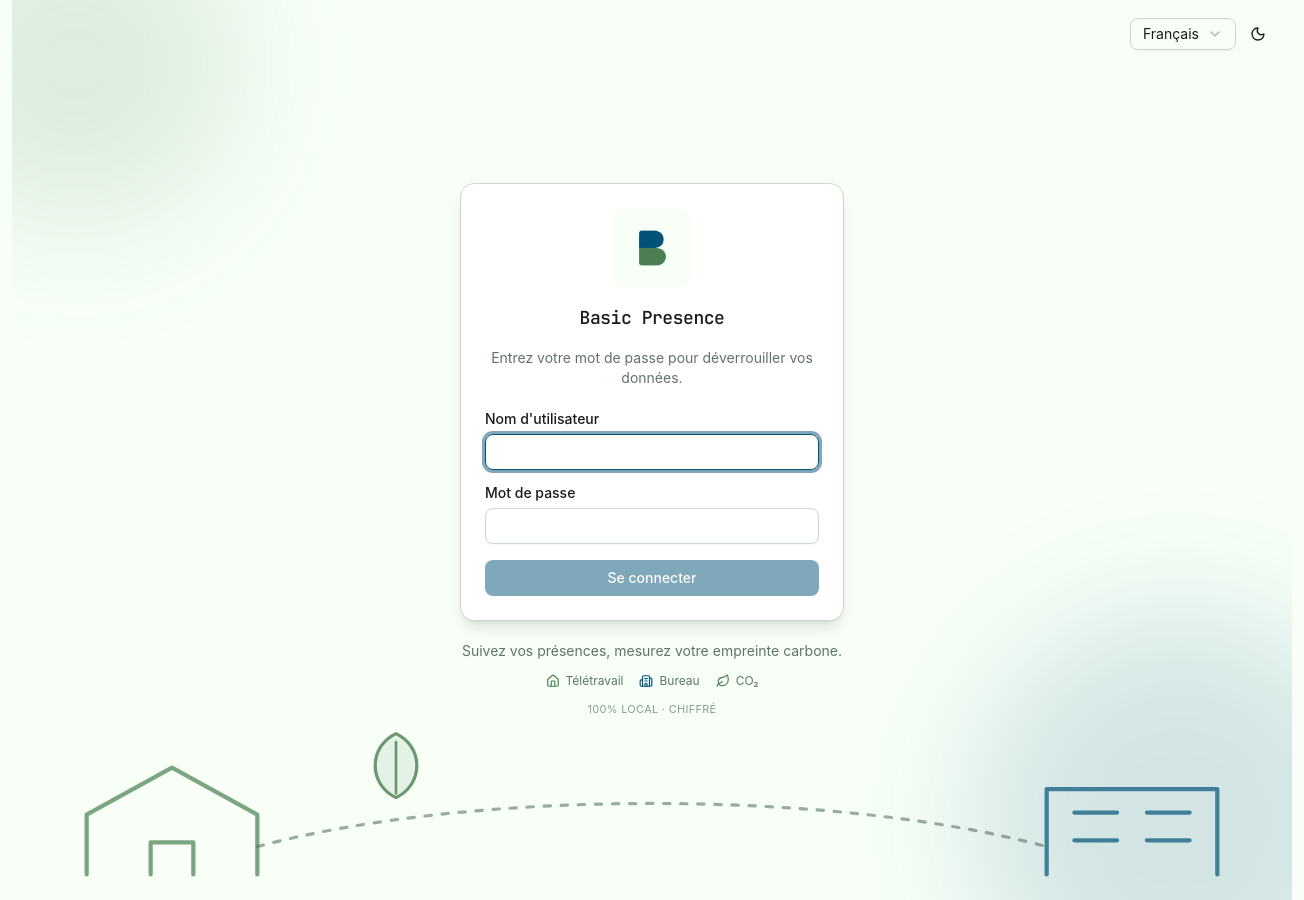
Test: auth flow › logs in an existing account and lands on the empty-profile home
Type "alice" into the field labelled "Nom d'utilisateur" at (652, 452), box [485,434,819,470]
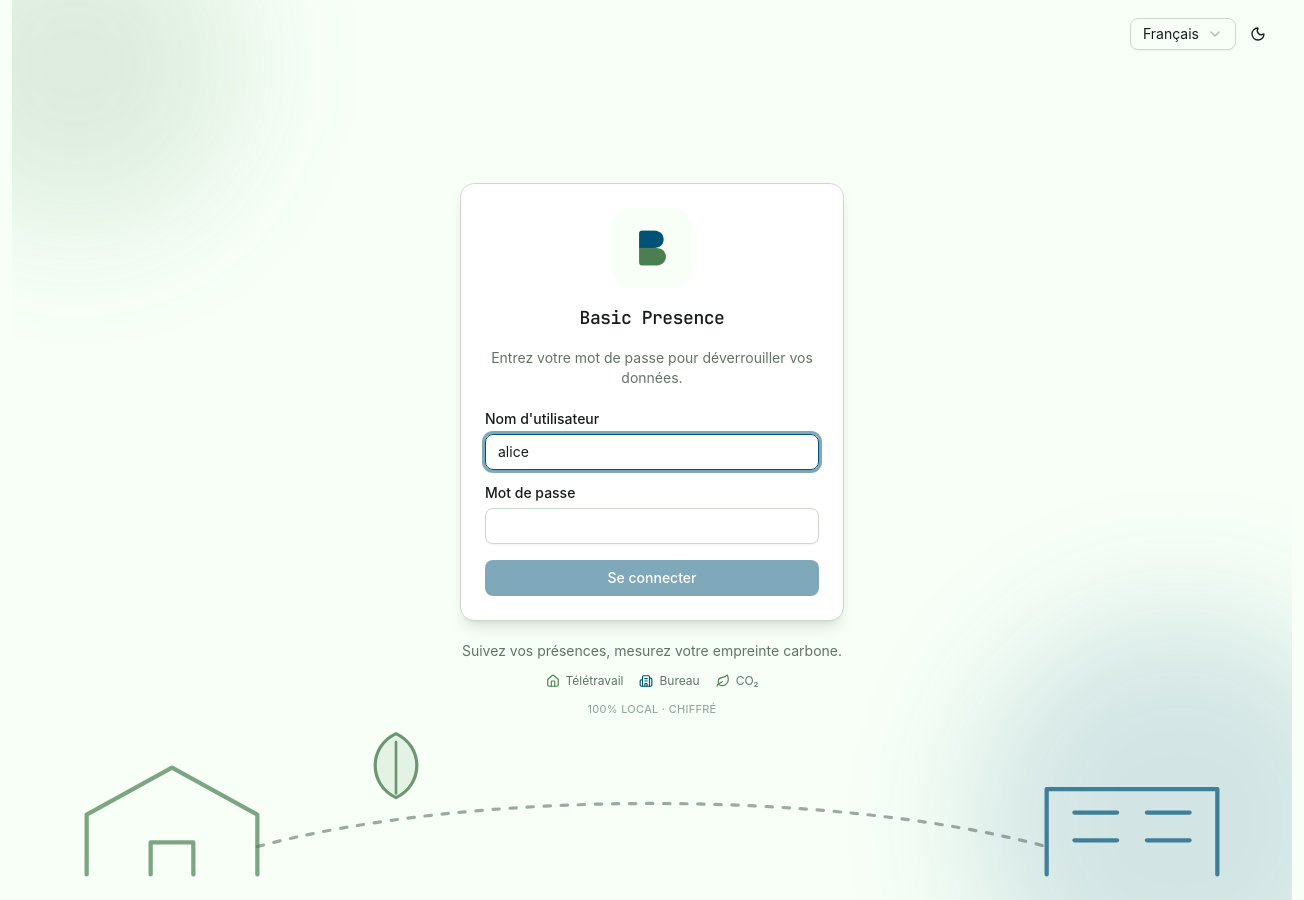
Type "secret123" into the password field labelled "Mot de passe" at (652, 526), box [485,508,819,544]
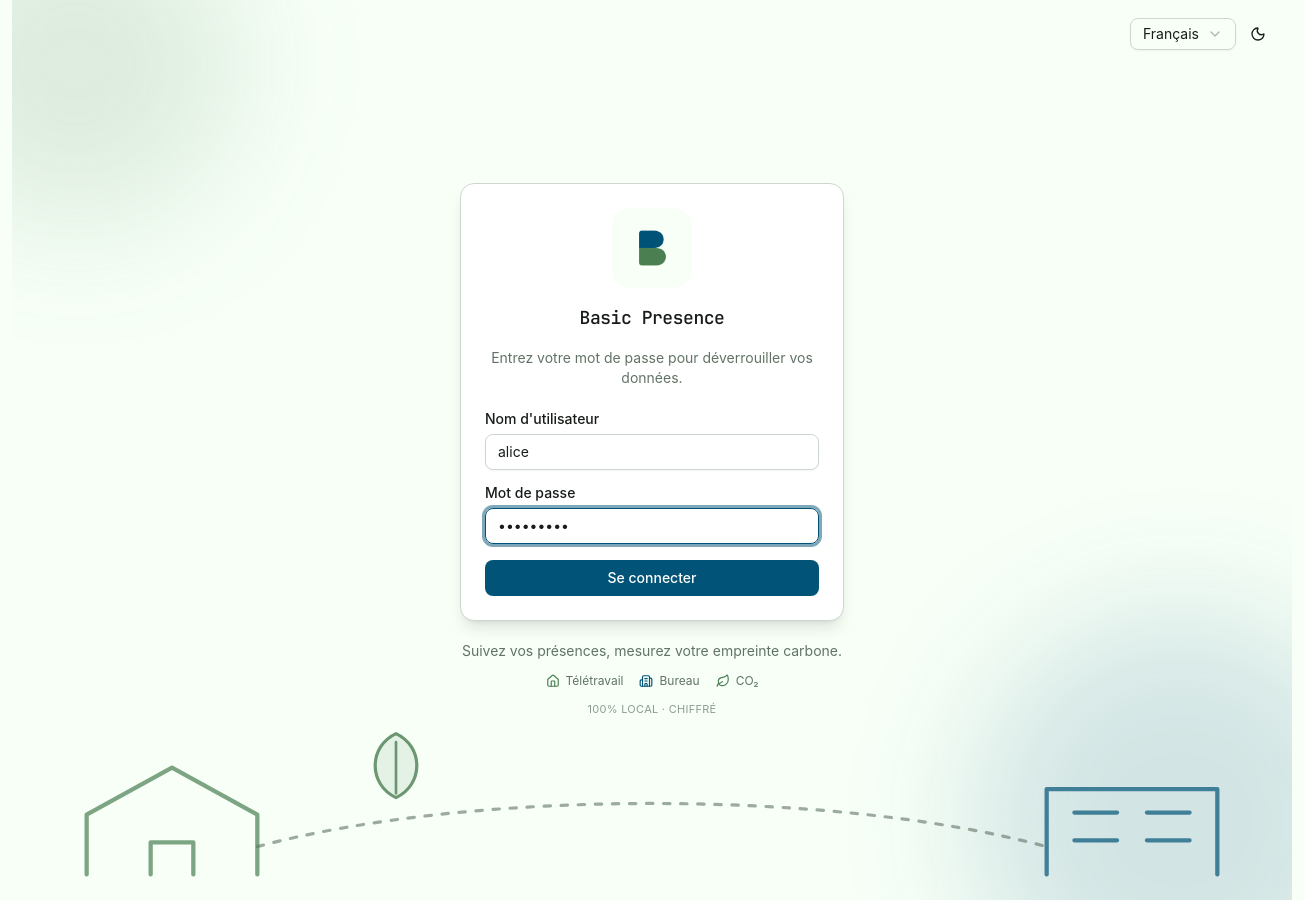
Click the button "Se connecter" at (652, 578), box [485,560,819,596]
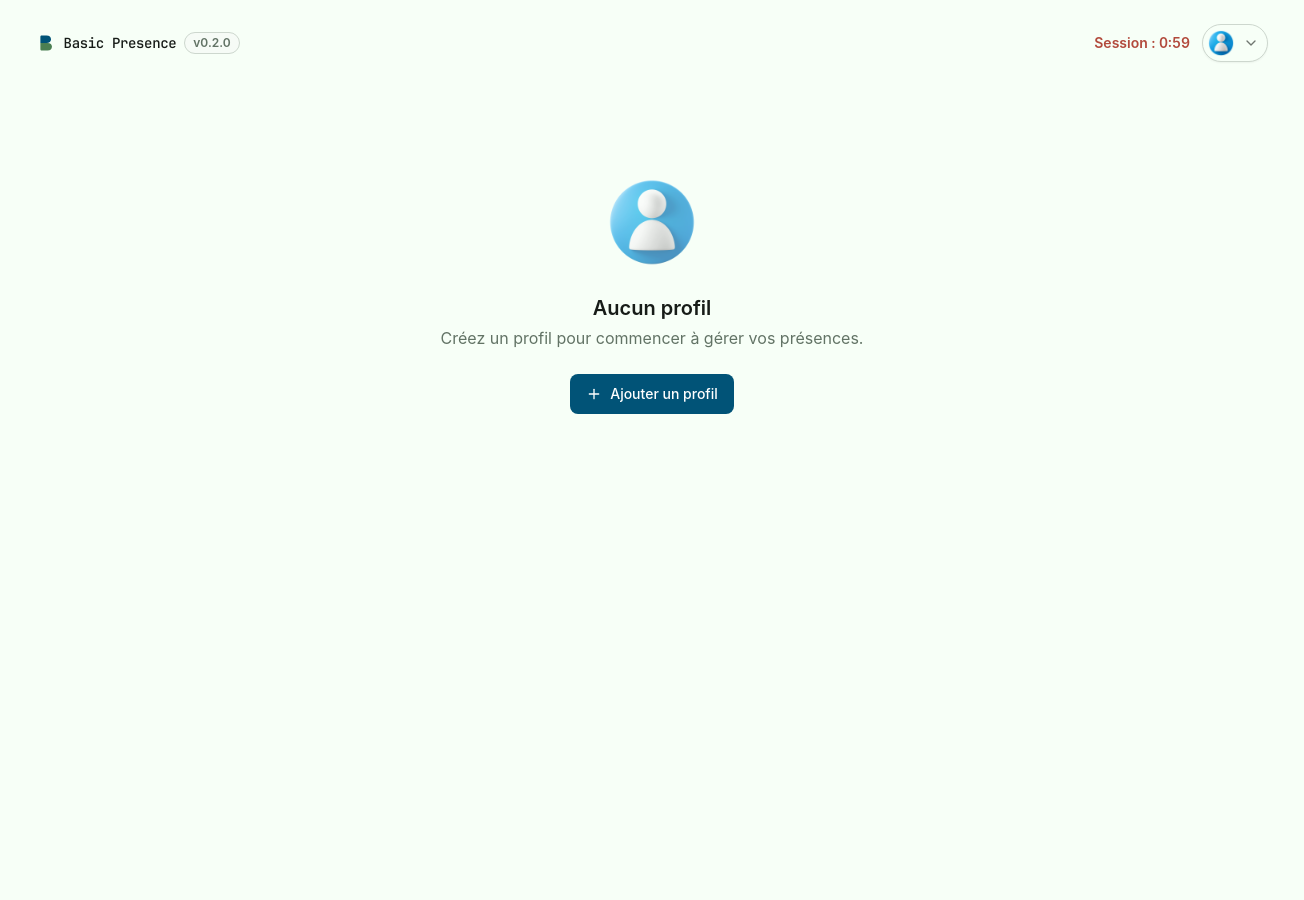
Expected: the button "Ajouter un profil" is shown, [570,374,734,414]
